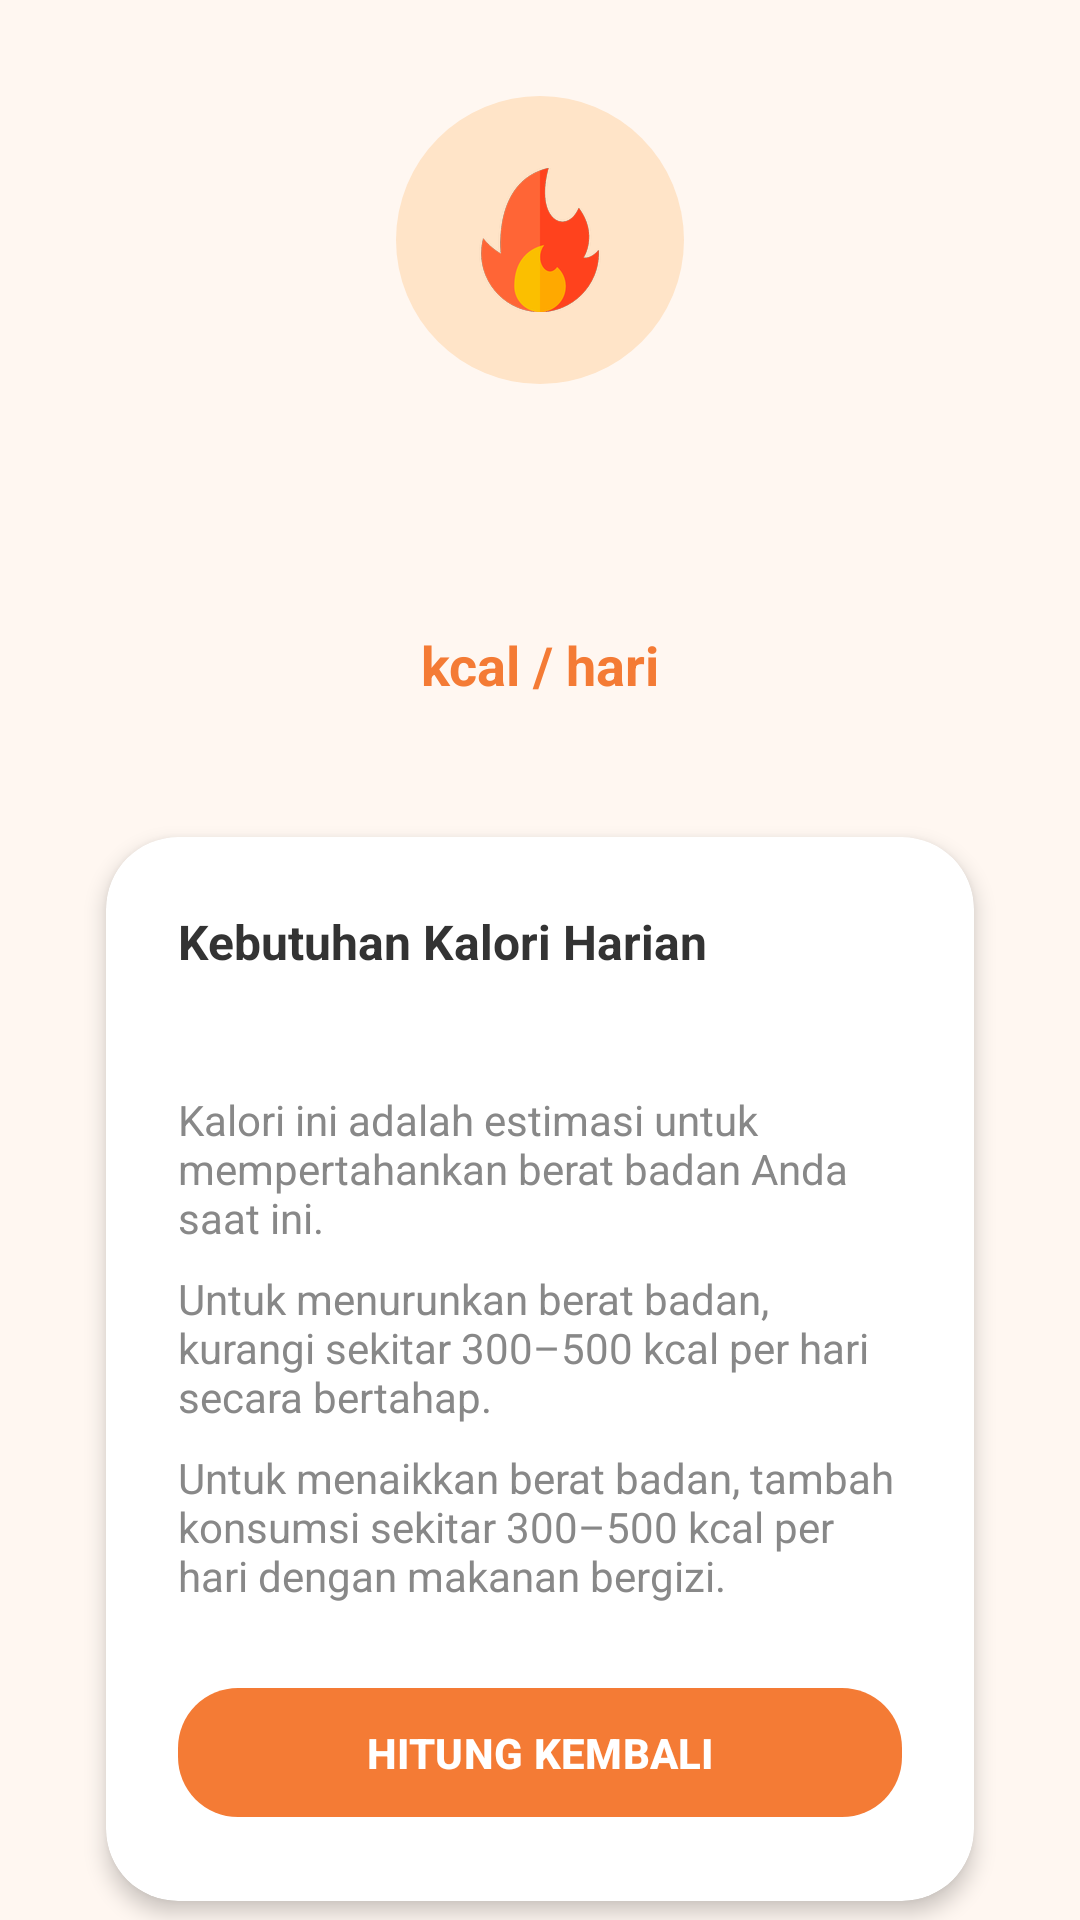

Where icons sit on this 1080w x 1920h app screen, as (x1, y1, x2, y2):
Ikon hasil kalori: (396, 96, 684, 384)
